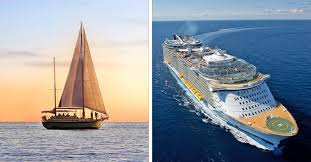boat: (161, 34, 299, 152), (41, 20, 109, 129)
